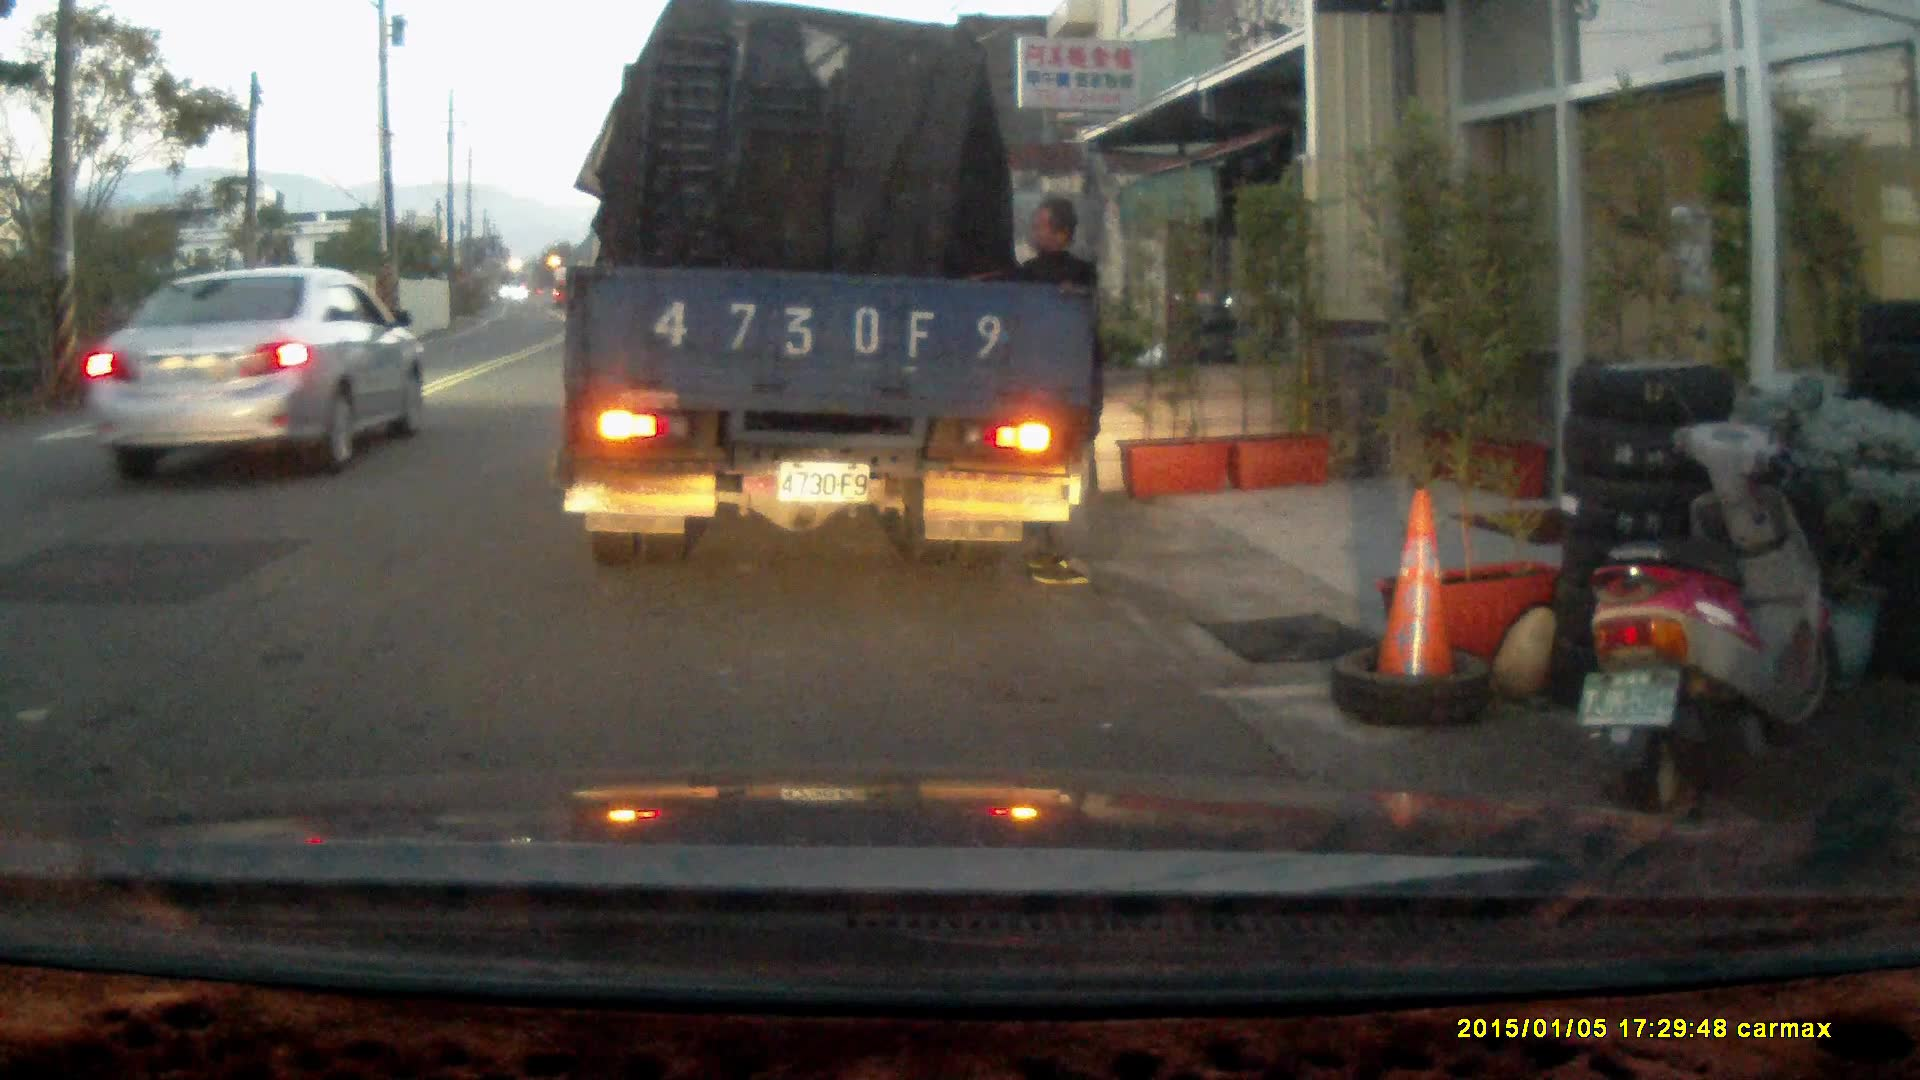pedestrian: (966, 197, 1104, 585)
vehicle: (565, 23, 1097, 572), (59, 267, 422, 481)
